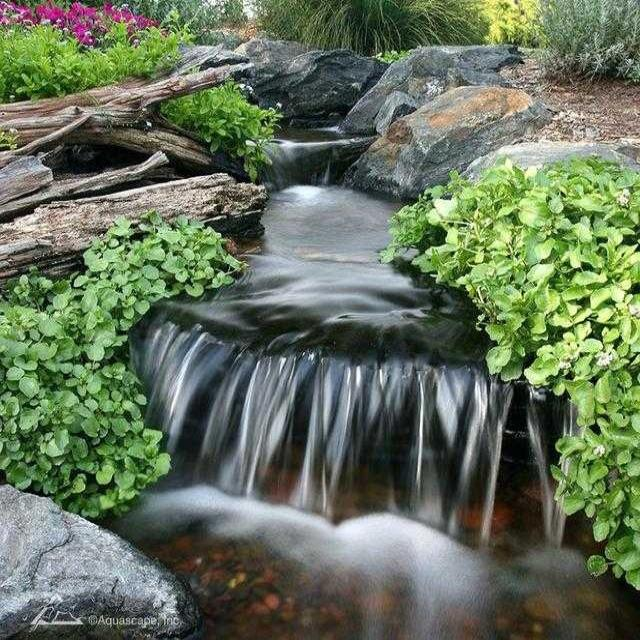Ponds: (1, 23, 640, 640)
